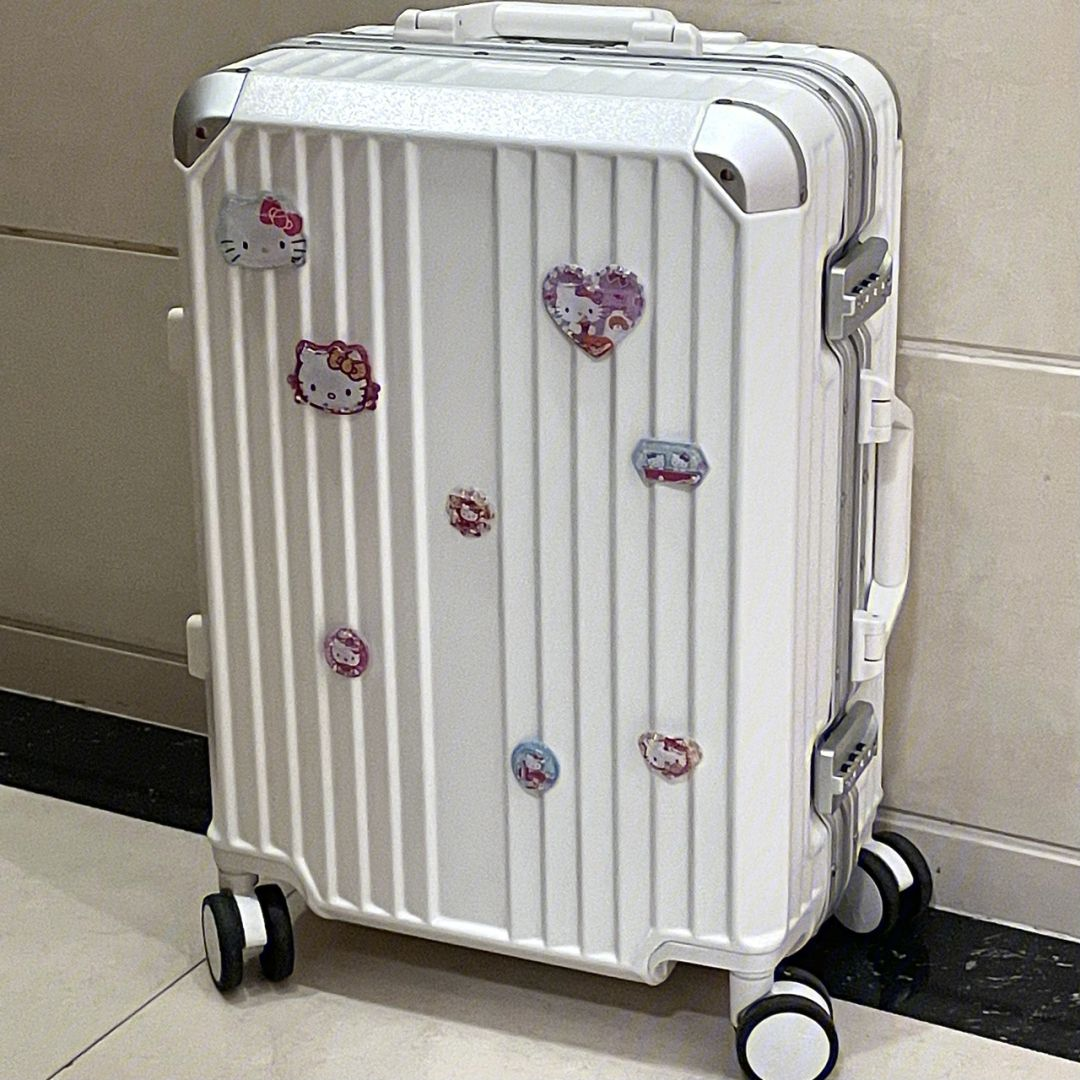box: (174, 24, 901, 982)
handle: (851, 366, 915, 684), (391, 1, 703, 57)
lock: (814, 700, 879, 819), (829, 235, 894, 341)
wheel: (733, 967, 839, 1080), (831, 831, 933, 941), (201, 884, 295, 995)
